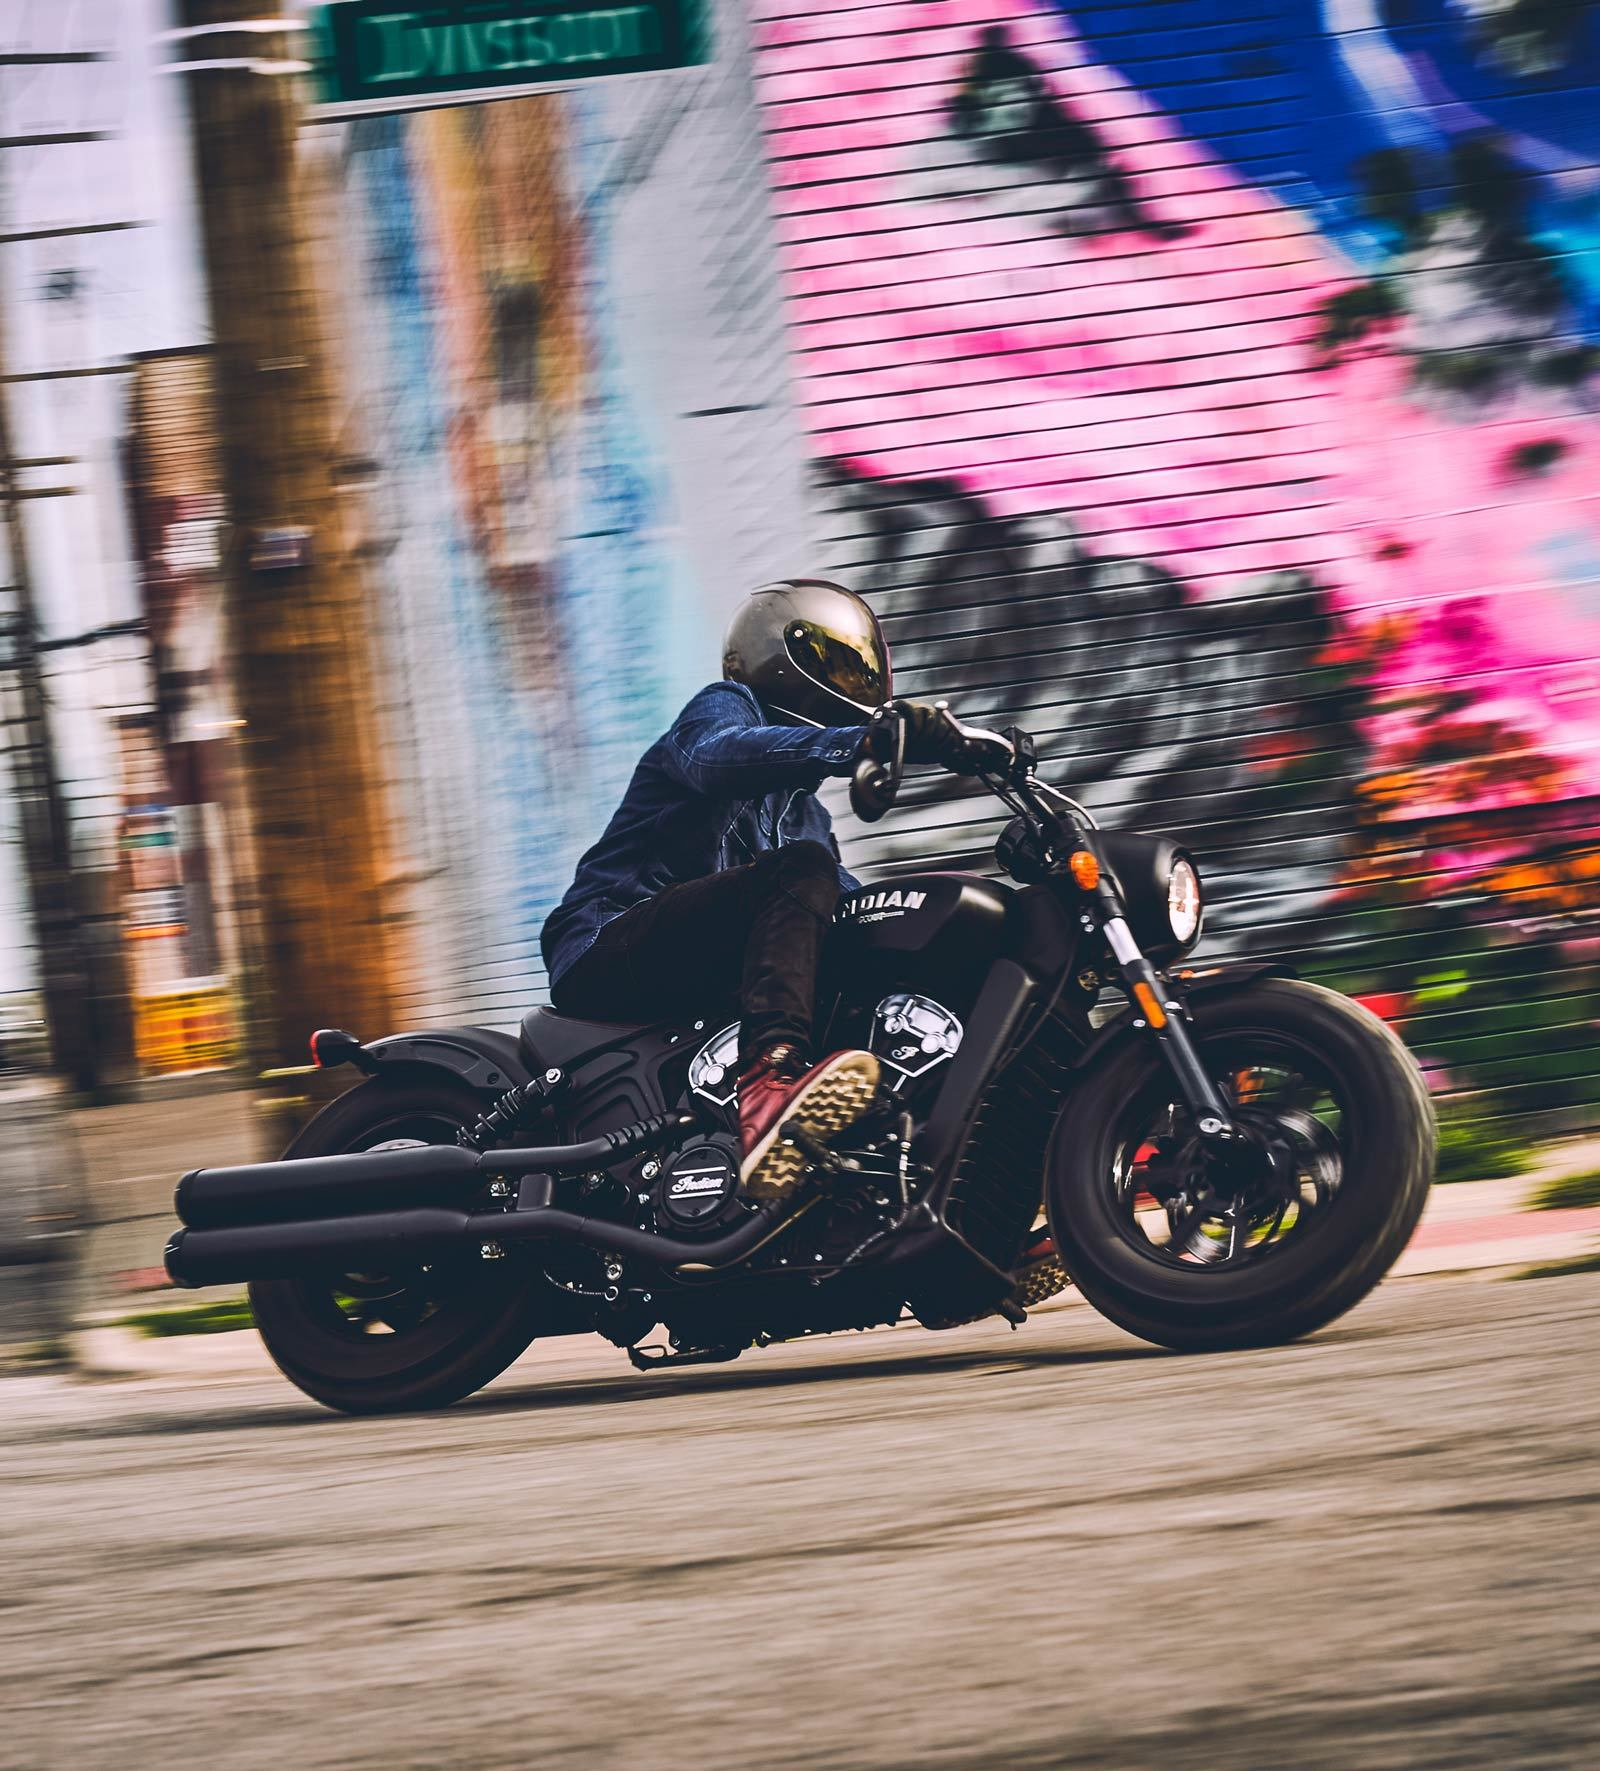helmet: (478, 575, 1464, 1354)
